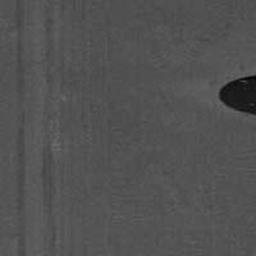Punching: (219, 76, 256, 116)
